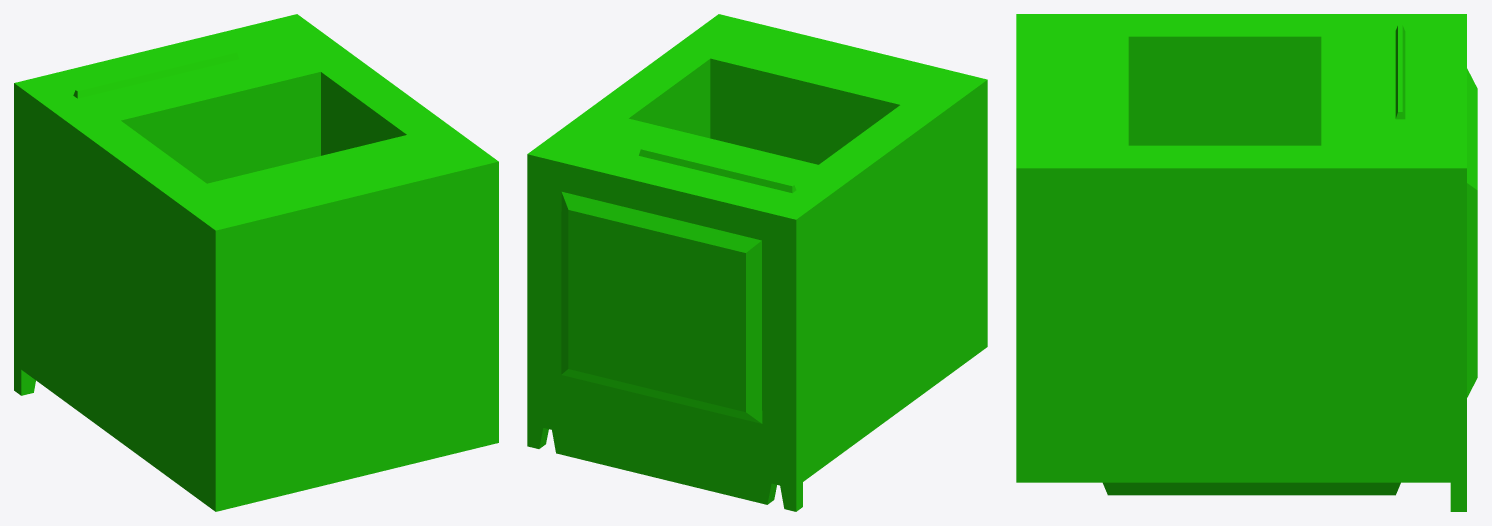
File: SM_Stove_Collider.fbx
3 views of the same model, side by side, from view 1: azimuth 30°, elevation 25°; view 2: azimuth 150°, elevation 25°; view 3: azimuth 270°, elevation 25° (orthographic). The views are drawn at different scales.
Parts seen in each view (by area): view 1: SM_Stove_Collider; view 2: SM_Stove_Collider; view 3: SM_Stove_Collider.
Boxes of the visible parts, x1=… form: SM_Stove_Collider: x1=14, y1=14, x2=498, y2=511; SM_Stove_Collider: x1=527, y1=14, x2=987, y2=511; SM_Stove_Collider: x1=1016, y1=14, x2=1477, y2=511.
Bounding box in the file's own units: 84.96 × 91.68 × 107.
